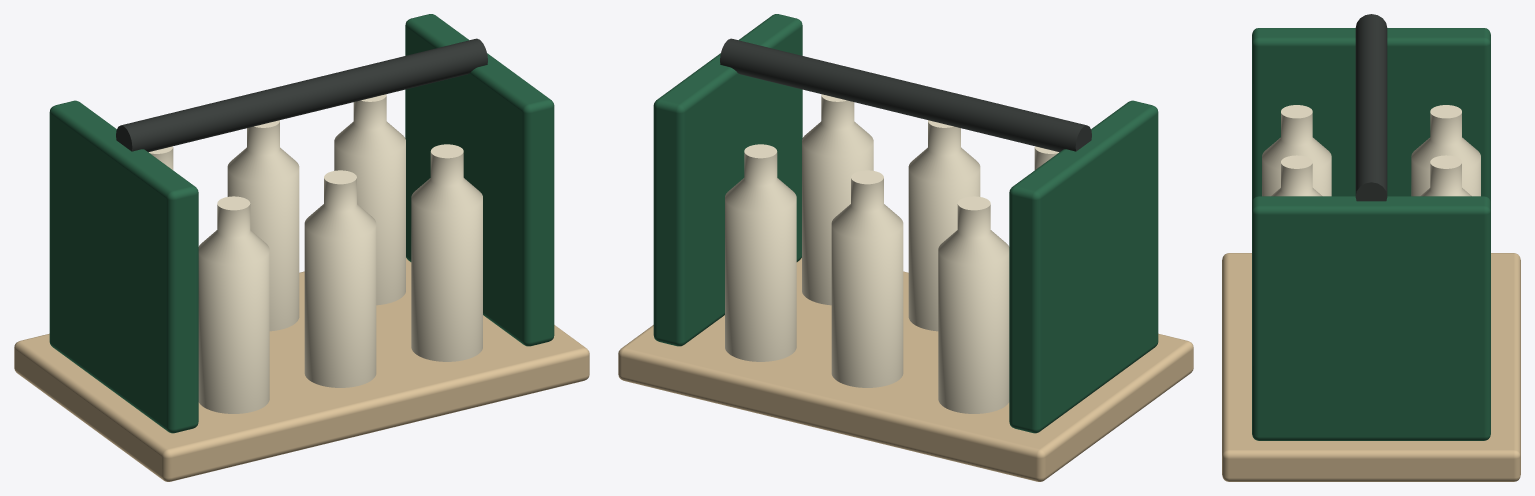
The model's file is cricket-ground-and-pavilion-drinks-carrier-5d351ab1__31355.glb.
3 views of the same model, side by side, from view 1: azimuth 30°, elevation 25°; view 2: azimuth 150°, elevation 25°; view 3: azimuth 270°, elevation 25° (orthographic). The views are drawn at different scales.
Visible parts, largest first — view 1: drinks-carrier; view 2: drinks-carrier; view 3: drinks-carrier.
Boxes of the visible parts, x1=… form: drinks-carrier: x1=14, y1=14, x2=589, y2=481; drinks-carrier: x1=618, y1=14, x2=1193, y2=481; drinks-carrier: x1=1222, y1=14, x2=1520, y2=481.
Bounding box in the file's own units: 0.48 × 0.316 × 0.3.
